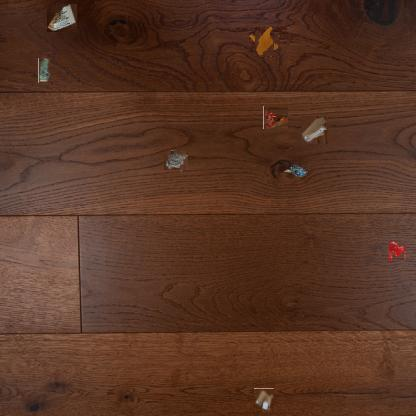dirty: (47, 4, 77, 32), (300, 116, 328, 144), (263, 105, 288, 129), (254, 388, 274, 413), (165, 149, 187, 171), (282, 164, 308, 178), (38, 57, 51, 83)
liquid: (252, 30, 277, 54), (390, 241, 406, 261)
